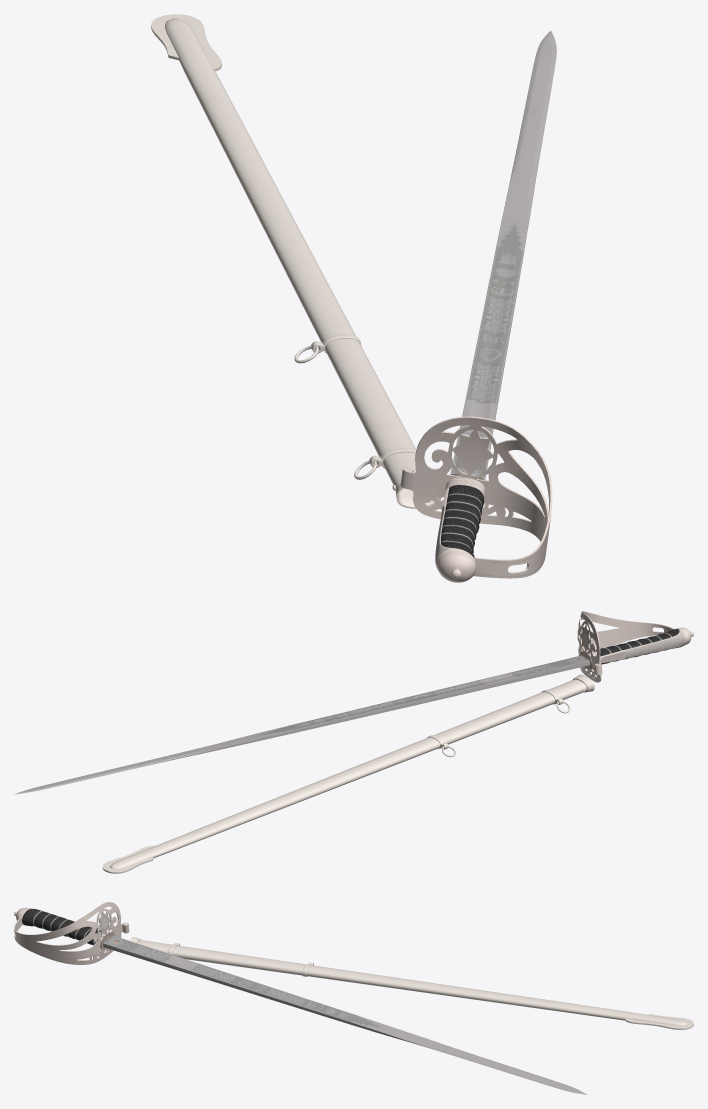
The model's file is irish_guards_sword.glb.
3 views of the same model, one above another, from view 1: azimuth 30°, elevation 25°; view 2: azimuth 150°, elevation 25°; view 3: azimuth 270°, elevation 25° (orthographic). The views are drawn at different scales.
Visible parts, largest first — view 1: Sword-material (×2); view 2: Sword-material (×2); view 3: Sword-material (×2).
Boxes of the visible parts, left/top/right/bottom form: Sword-material (×2): left=151, top=14, right=556, bottom=582; Sword-material (×2): left=14, top=611, right=693, bottom=873; Sword-material (×2): left=14, top=902, right=693, bottom=1094.
Bounding box in the file's own units: 0.5508 × 0.085 × 0.9645.
Materials: 1 (1 with a texture image).
